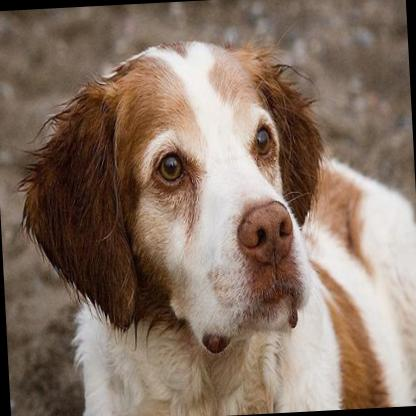Brittany_spaniel: (2, 21, 416, 416)
